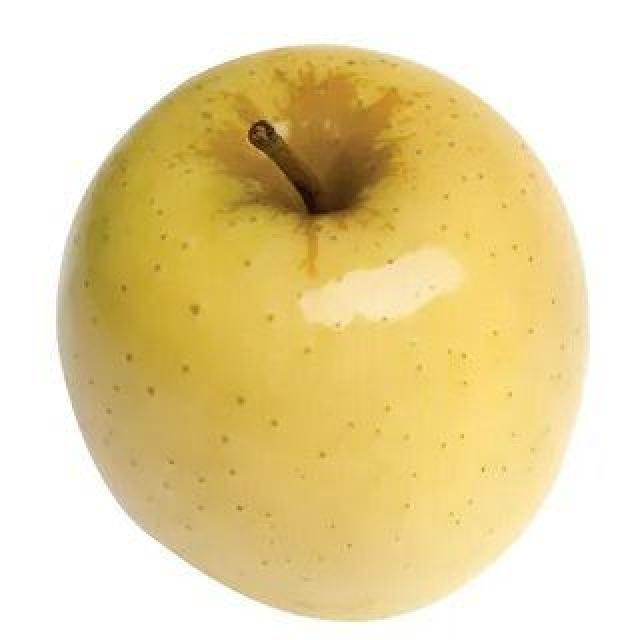Fresh Apple: (72, 60, 590, 608)
